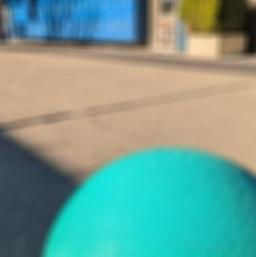algae: (36, 142, 256, 257)
